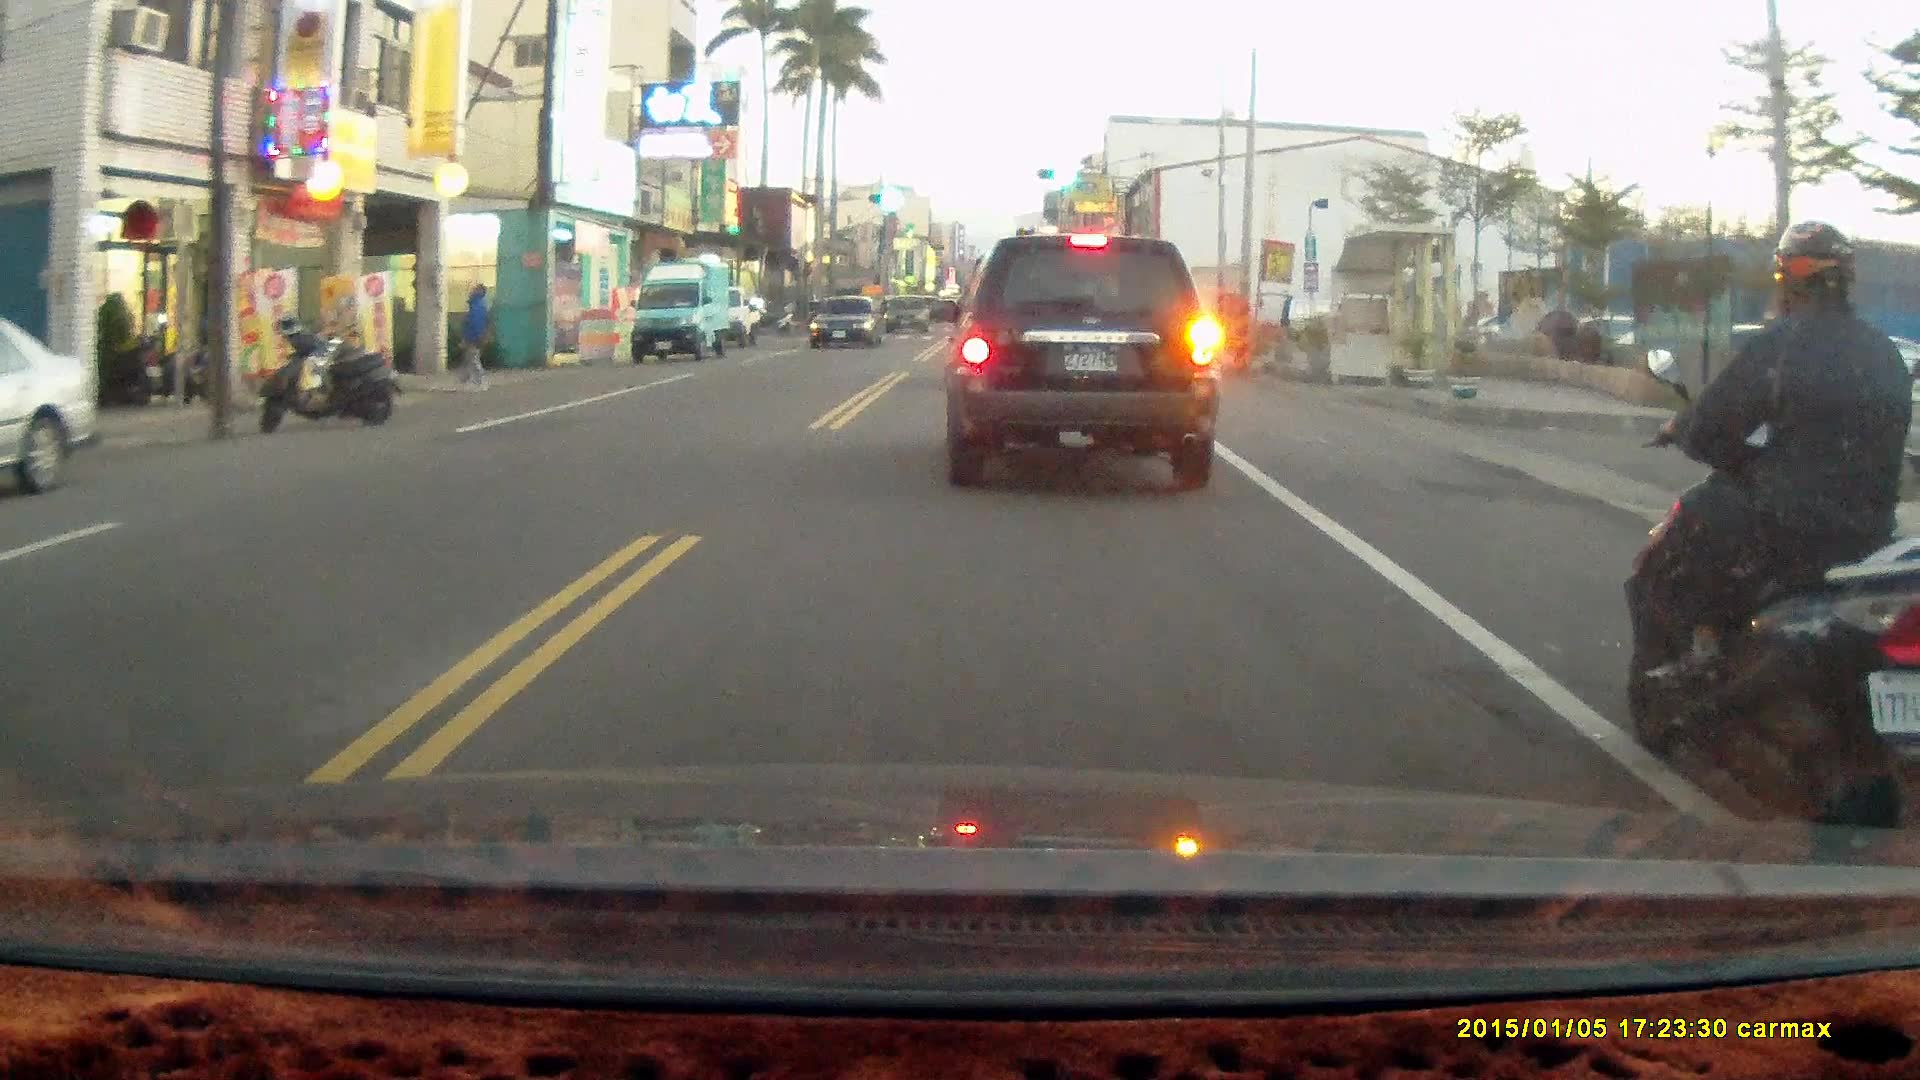pedestrian: (458, 278, 493, 389)
rider: (1621, 221, 1920, 851)
vehicle: (940, 233, 1221, 496), (1, 312, 106, 498), (630, 263, 735, 366), (808, 296, 888, 350), (883, 296, 930, 335)
